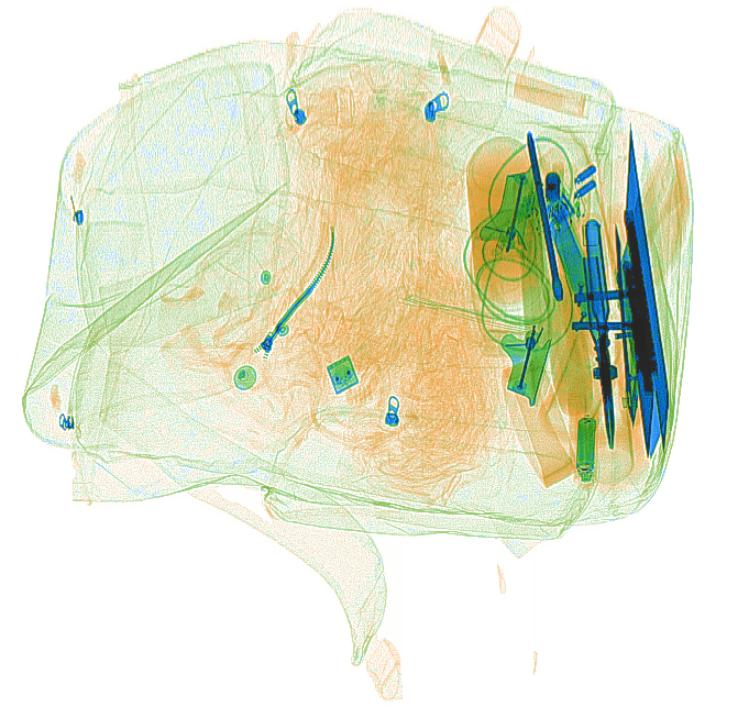battery: (574, 414, 596, 474)
knife: (547, 210, 601, 325)
scissors: (581, 219, 615, 446)
